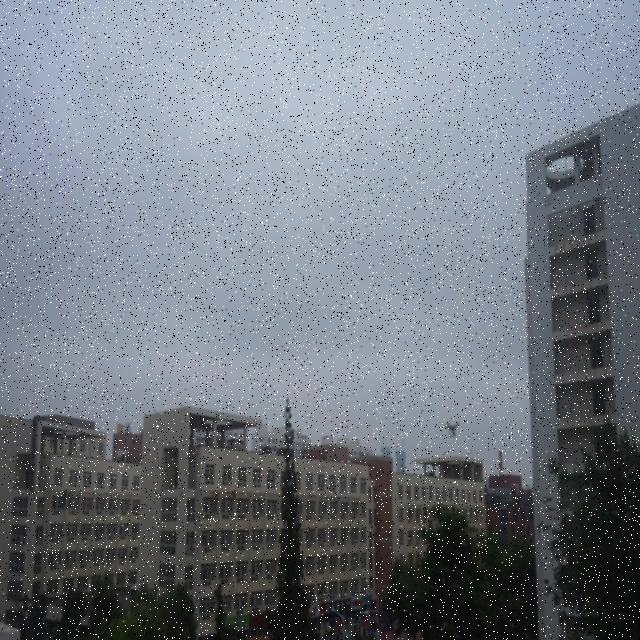UAV: (443, 422, 459, 438)
